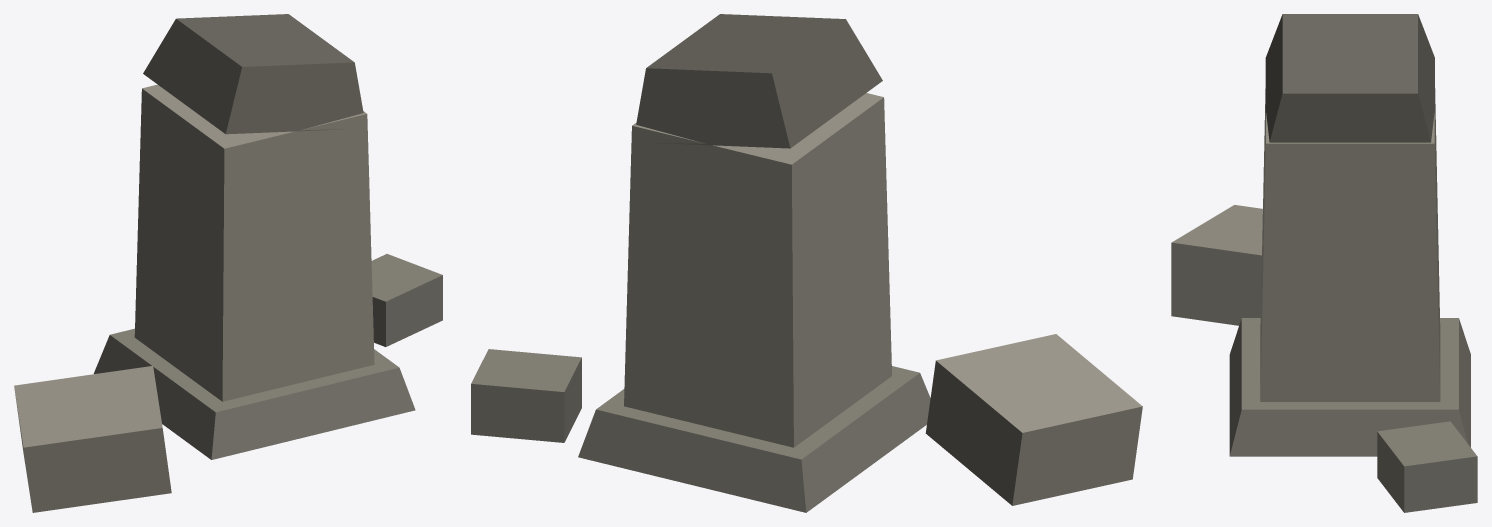
File: broken_pillar.glb
3 renders of one model, left to right at view 1: azimuth 30°, elevation 25°; view 2: azimuth 150°, elevation 25°; view 3: azimuth 270°, elevation 25°, orthographic. The views are drawn at different scales.
Parts seen in each view (by area): view 1: broken_pillar; view 2: broken_pillar; view 3: broken_pillar.
Boxes of the visible parts, x1,y1,x2,y2 form: broken_pillar: [14, 14, 442, 512]; broken_pillar: [471, 14, 1142, 512]; broken_pillar: [1171, 14, 1477, 512].
Bounding box in the file's own units: 2.31 × 1.64 × 1.19.
1 material, 1 textured.
